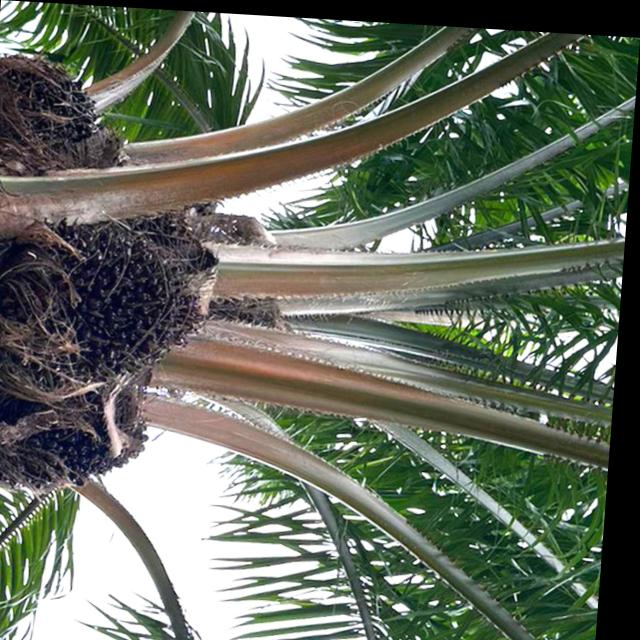almost: (0, 205, 222, 400)
